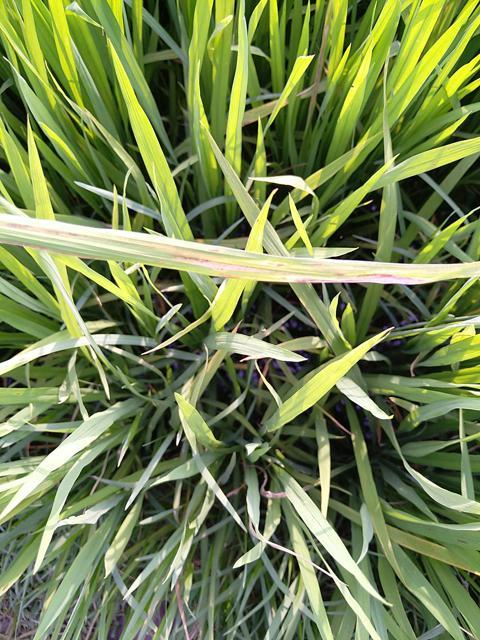Leaf Blight: (0, 215, 479, 288), (386, 525, 479, 576)
